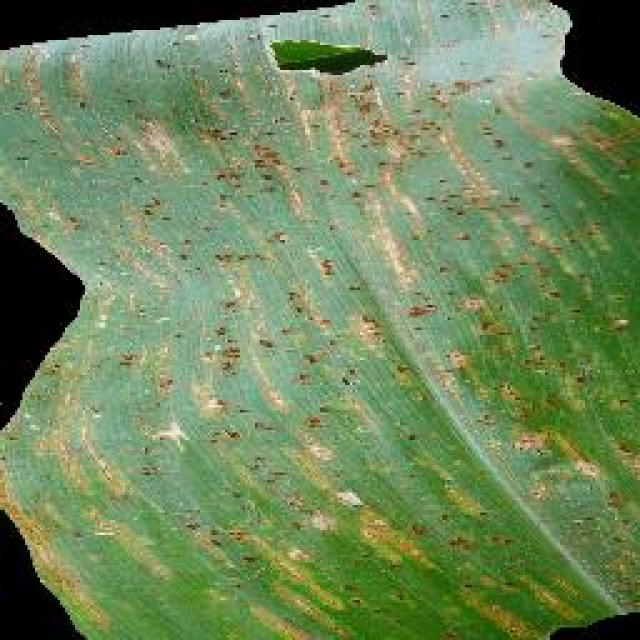Corn Common Rust: (76, 76, 595, 640)
